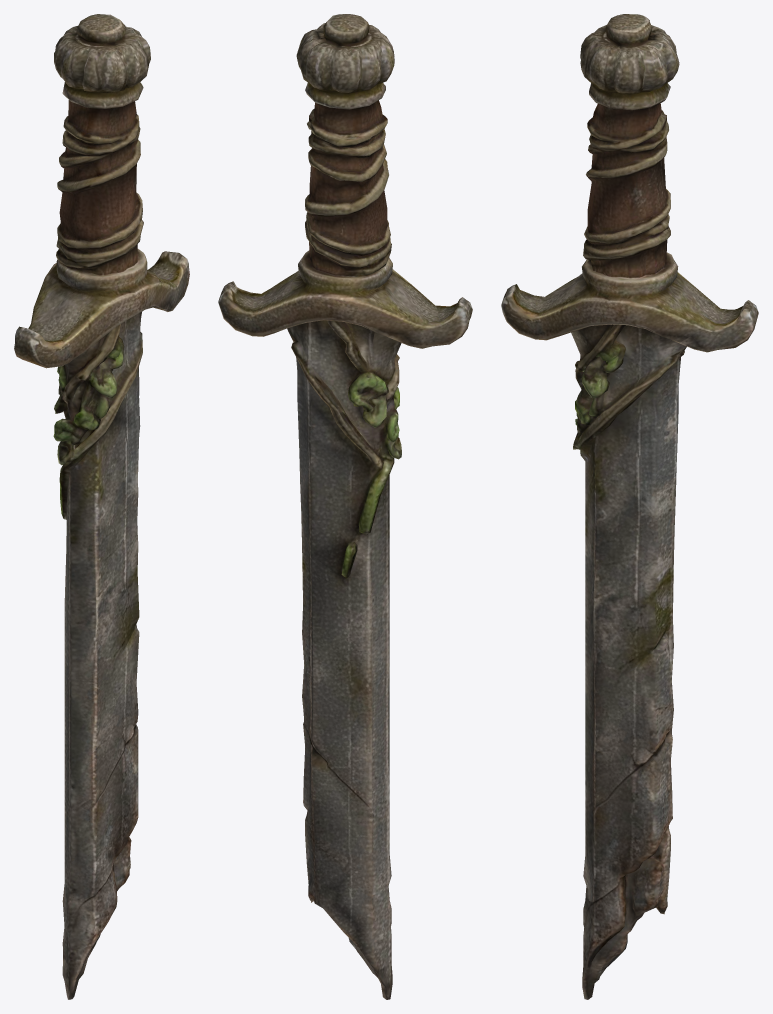
The model's file is prop_kiem_gay.99e22c1006.glb.
The picture shows the model from 3 angles, left to right: view 1: azimuth 30°, elevation 25°; view 2: azimuth 150°, elevation 25°; view 3: azimuth 330°, elevation 25°; orthographic projection.
Visible parts, largest first — view 1: prop_kiem_gay; view 2: prop_kiem_gay; view 3: prop_kiem_gay.
Part boxes in pixels (x1,y1,x2,y2): prop_kiem_gay: [14, 14, 189, 999]; prop_kiem_gay: [218, 14, 472, 999]; prop_kiem_gay: [501, 14, 758, 999].
Size of what is drawn, in the model's own units: 0.4058 by 1.8 by 0.194.
Materials: 1 (1 with a texture image).
